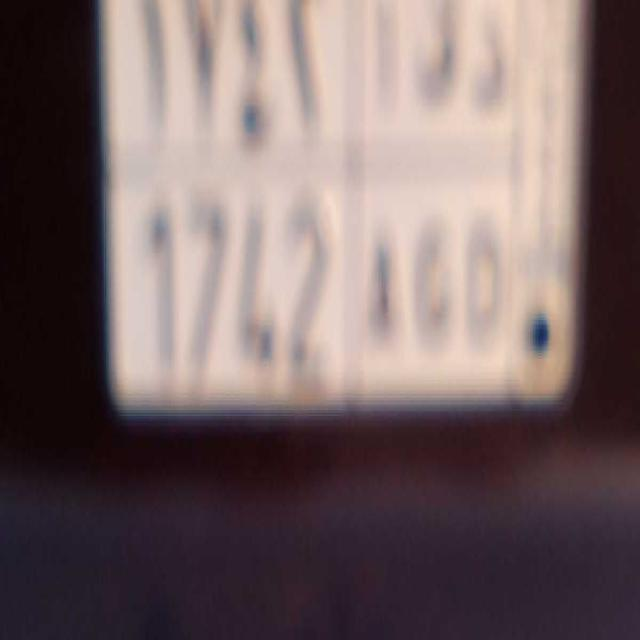license_plate: (131, 146, 512, 426)
